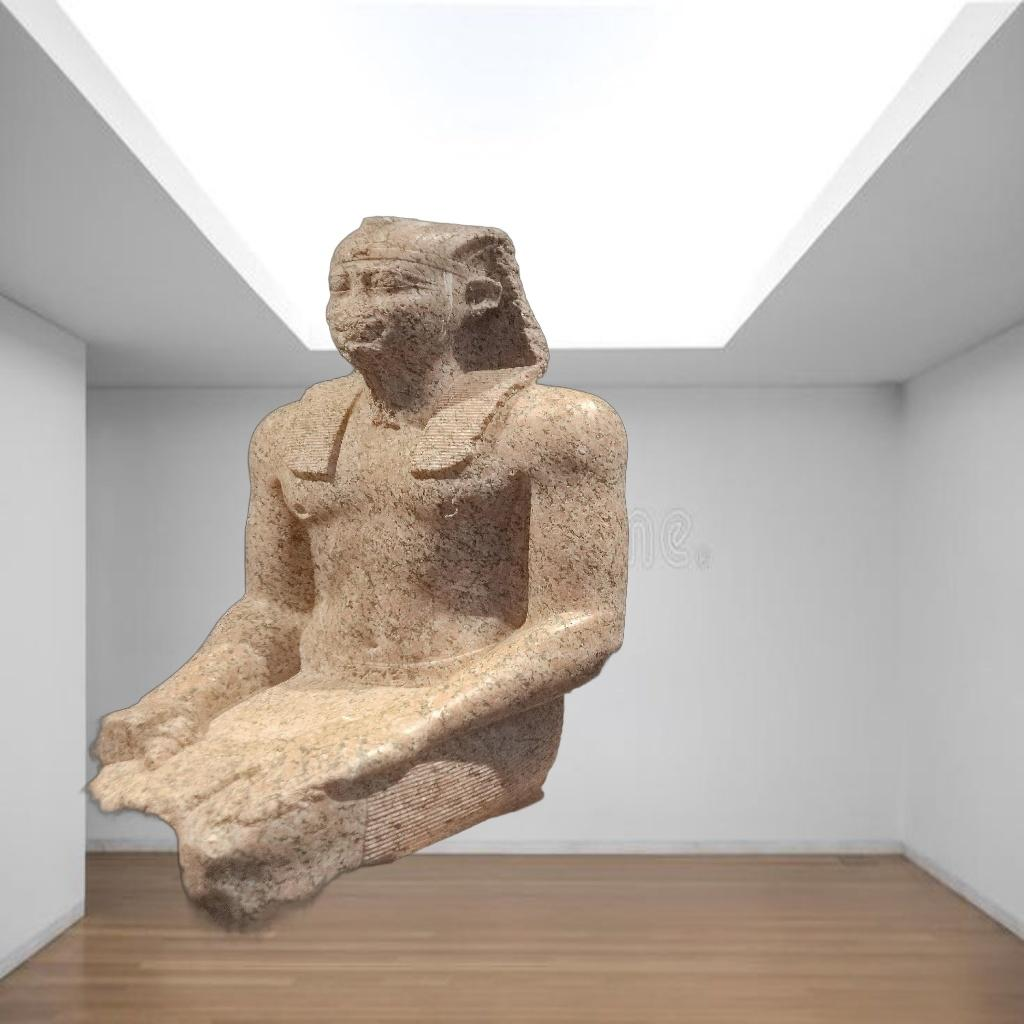Statue of Amenmhat I: (46, 212, 638, 1021)
